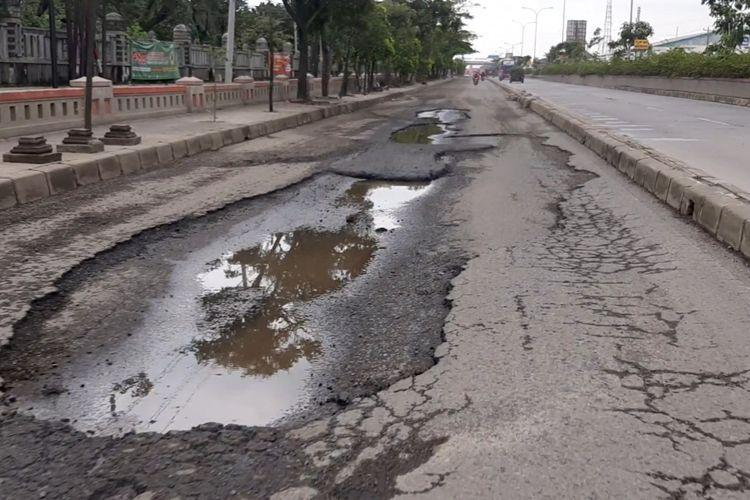Pothole: (0, 148, 496, 476), (372, 108, 475, 151)
